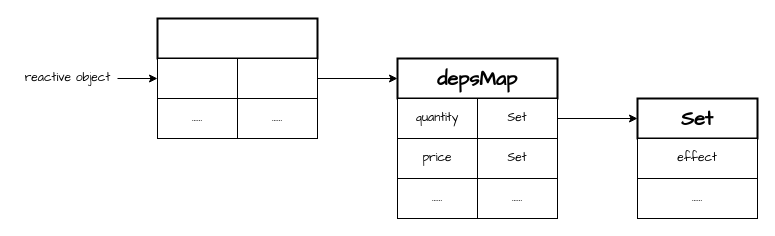
Image size: 775x236. Some labels were removed from this diagram. Here are the shapes that lost their labels. From the top down, the centre of each, then its label:
At point 237,38: "targetMap".
At point 197,78: "product".
At point 277,78: "Map".
